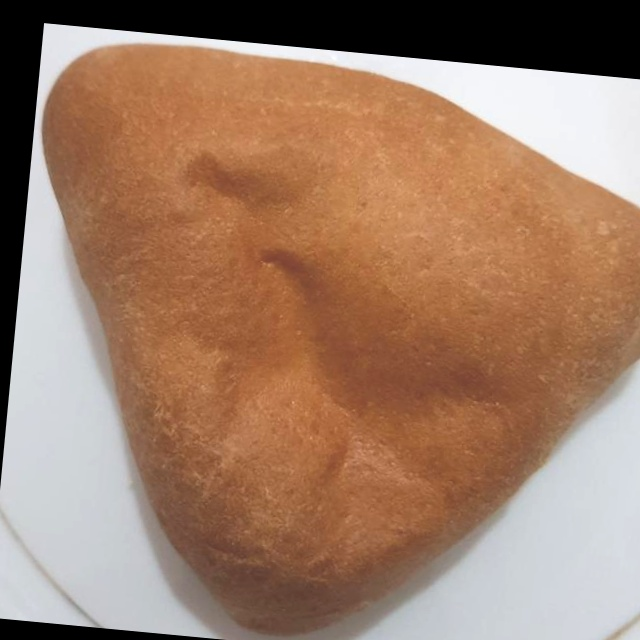Chicken Bun: (0, 31, 640, 640)
